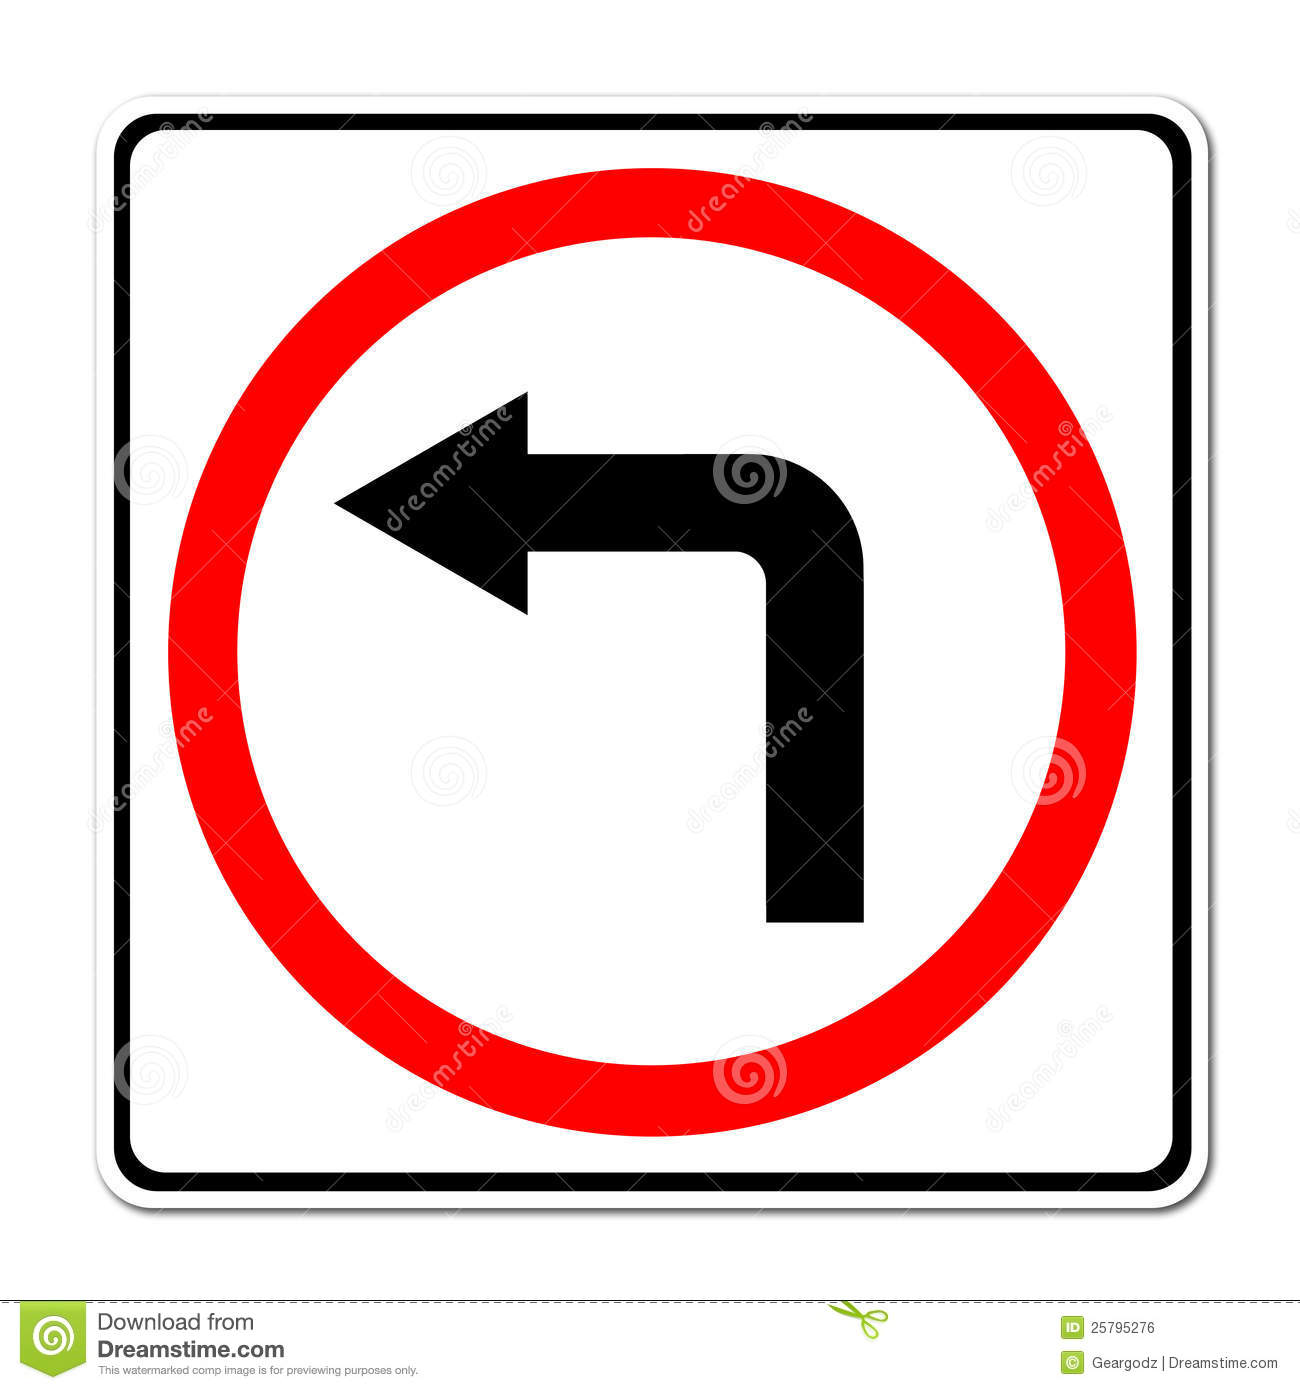left: (325, 386, 888, 938)
